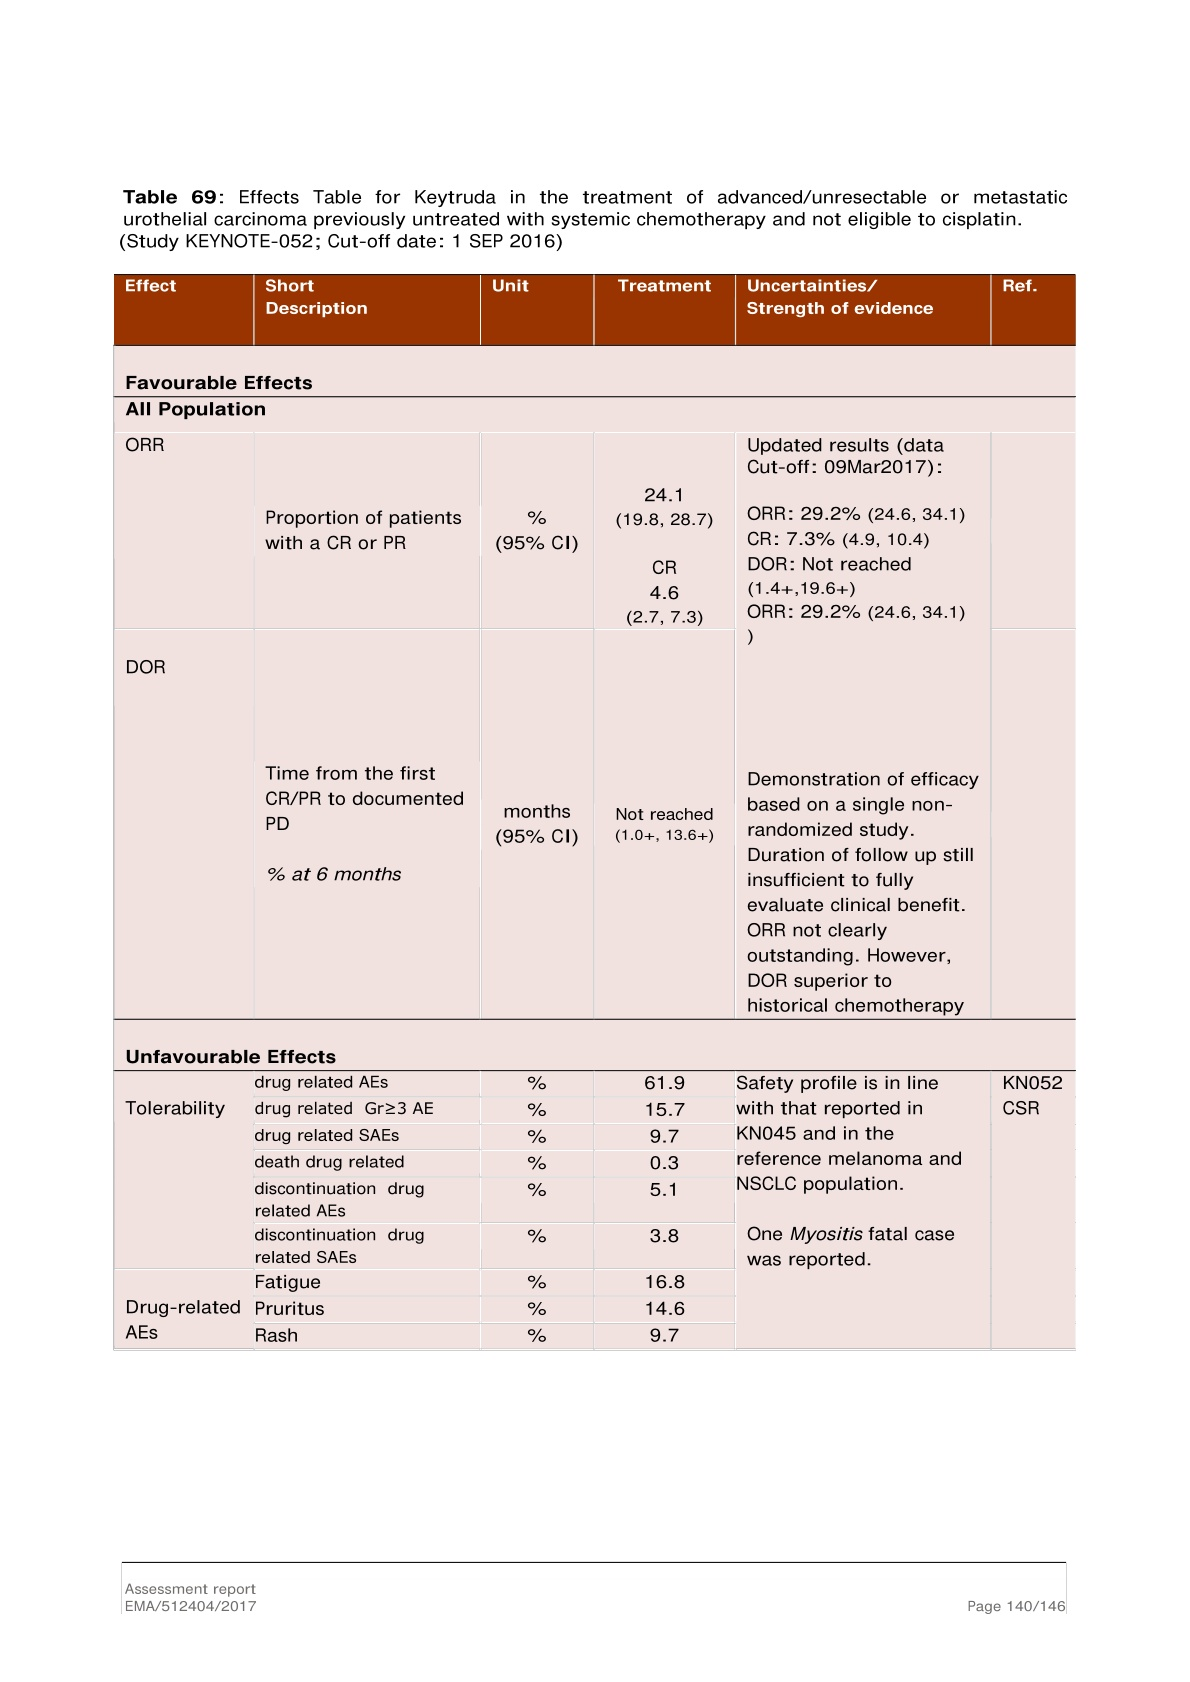merged_cells: (113, 272, 1078, 1354)
